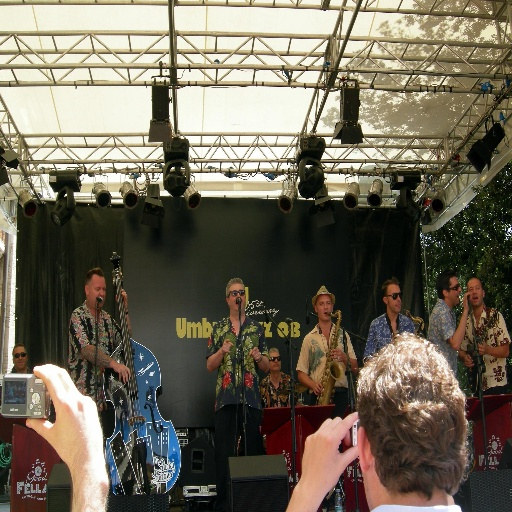hand: (24, 364, 106, 502), (304, 411, 359, 494), (113, 361, 132, 385), (115, 288, 128, 311), (329, 347, 345, 363), (220, 337, 234, 354), (462, 290, 472, 312), (477, 338, 488, 357), (247, 346, 260, 362), (464, 352, 475, 370), (312, 380, 323, 397)
